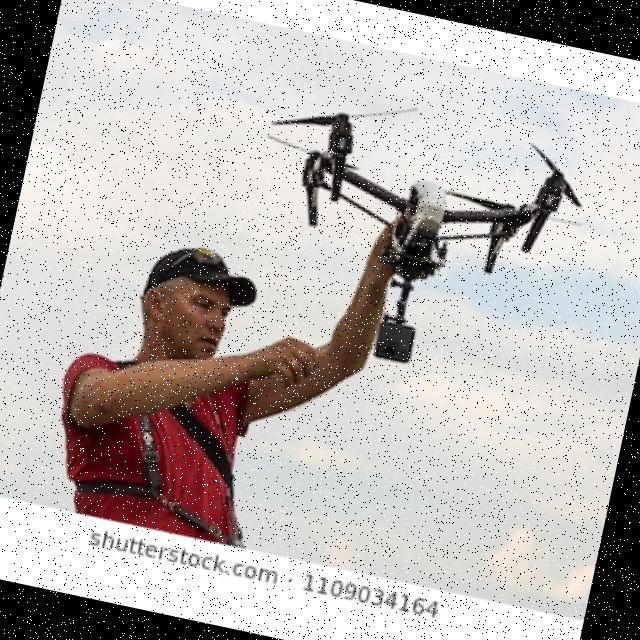Drones: (280, 85, 586, 308)
